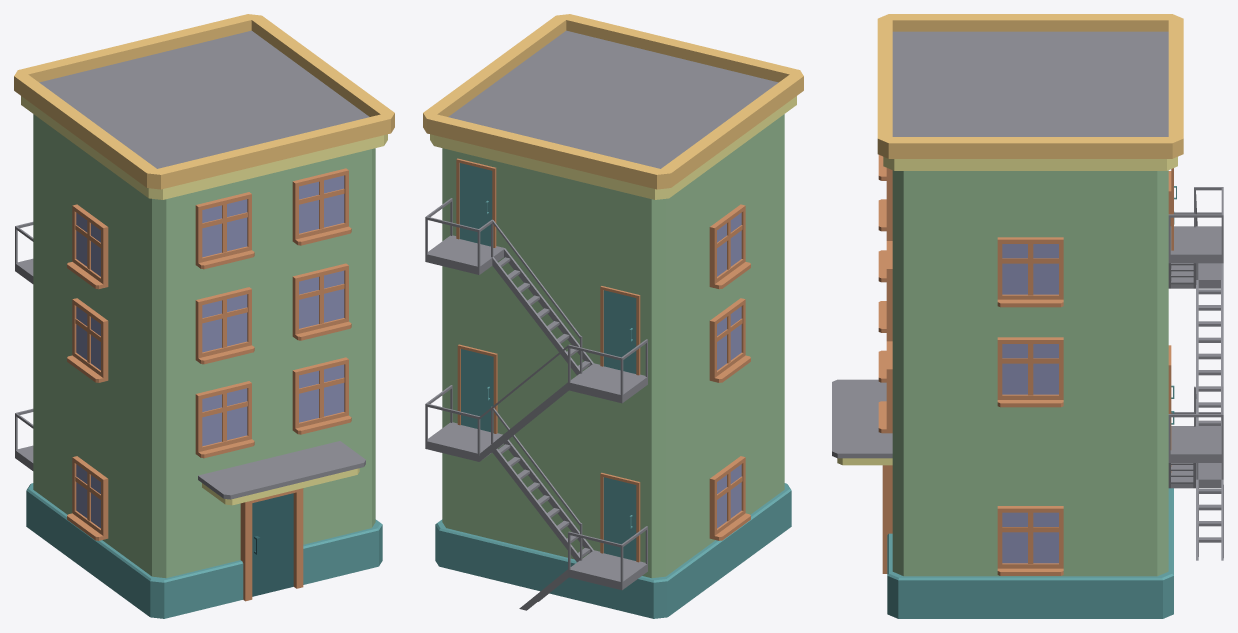
The model's file is house_01.fbx.
3 renders of one model, left to right at view 1: azimuth 30°, elevation 25°; view 2: azimuth 150°, elevation 25°; view 3: azimuth 270°, elevation 25°, orthographic. The views are drawn at different scales.
Visible parts, largest first — view 1: house_01; view 2: house_01; view 3: house_01.
Part boxes in pixels (x1,y1,x2,y2): house_01: (14, 14, 394, 618); house_01: (423, 14, 803, 618); house_01: (832, 14, 1223, 618).
Size of the model in its own units: 5.55 by 9.6 by 7.1.
